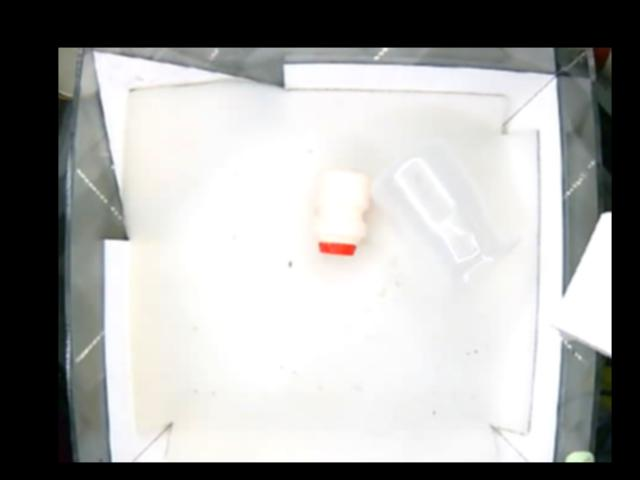Bottle: (385, 146, 523, 280), (313, 171, 370, 255)
